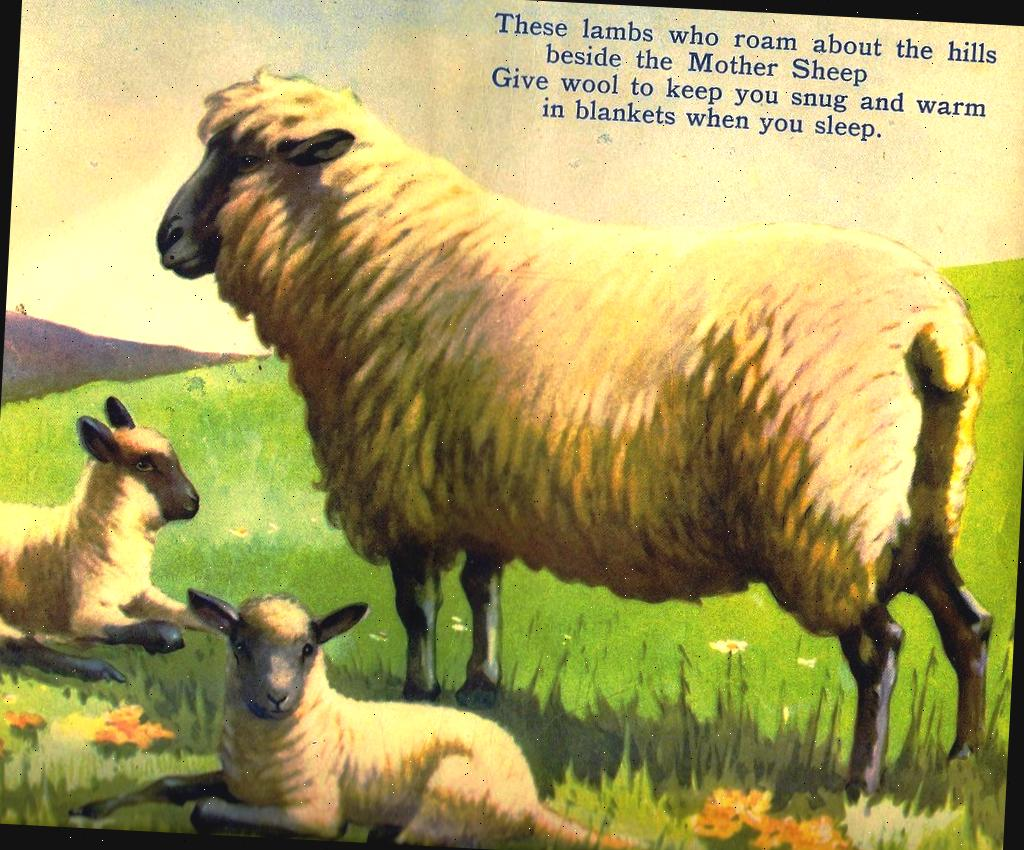Sheep: (134, 57, 1018, 810), (68, 585, 620, 850), (0, 390, 228, 692)
